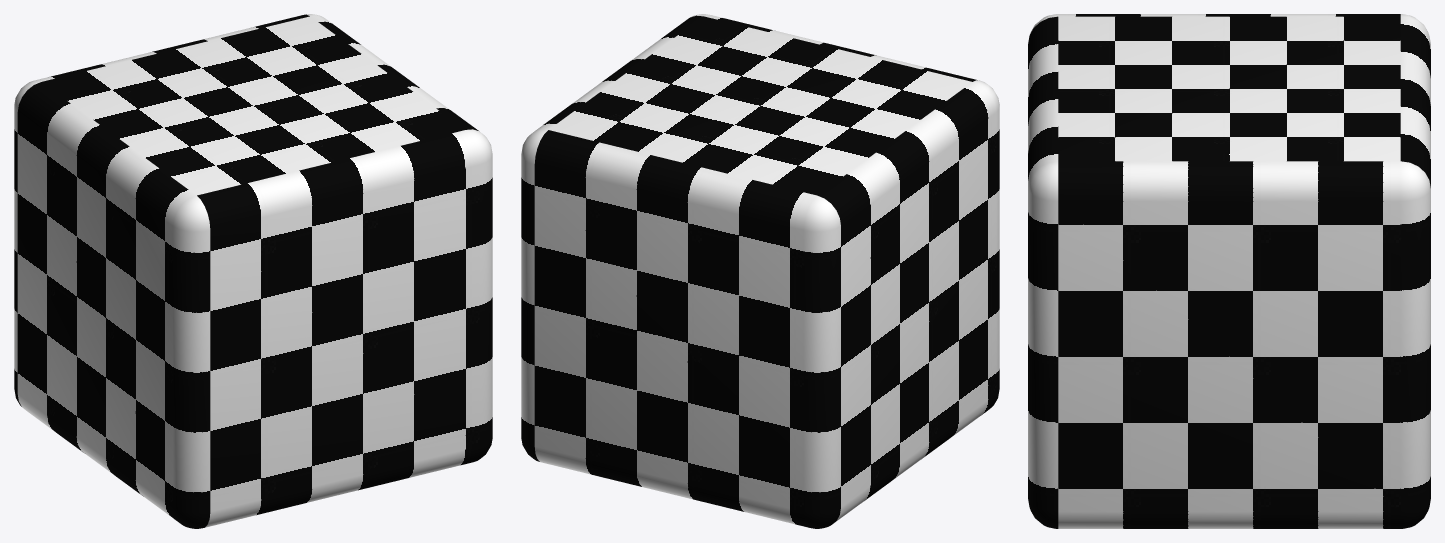
The model's file is goalblock.fbx.
The picture shows the model from 3 angles, left to right: view 1: azimuth 30°, elevation 25°; view 2: azimuth 150°, elevation 25°; view 3: azimuth 270°, elevation 25°; orthographic projection. The views are drawn at different scales.
Parts seen in each view (by area): view 1: goal; view 2: goal; view 3: goal.
Boxes of the visible parts, x1=… form: goal: x1=14, y1=14, x2=492, y2=528; goal: x1=521, y1=14, x2=999, y2=528; goal: x1=1028, y1=14, x2=1430, y2=528.
Size of the model in its own units: 200 by 200 by 200.
1 material, 1 textured.
